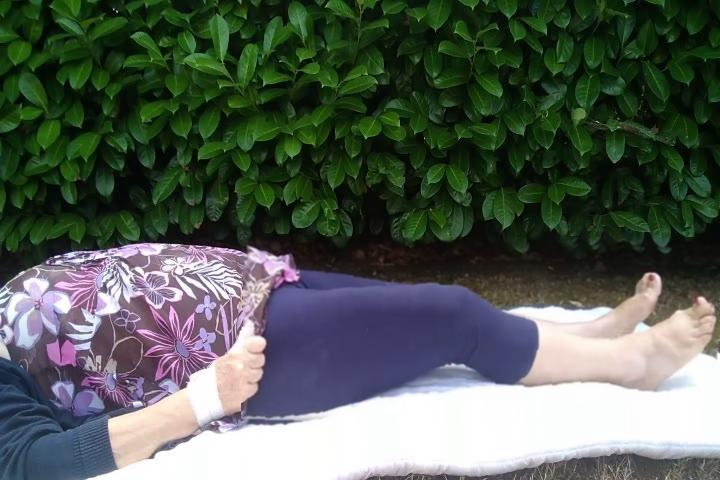lowerbody: (244, 238, 720, 432)
